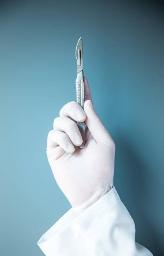scalpel: (74, 36, 88, 150)
